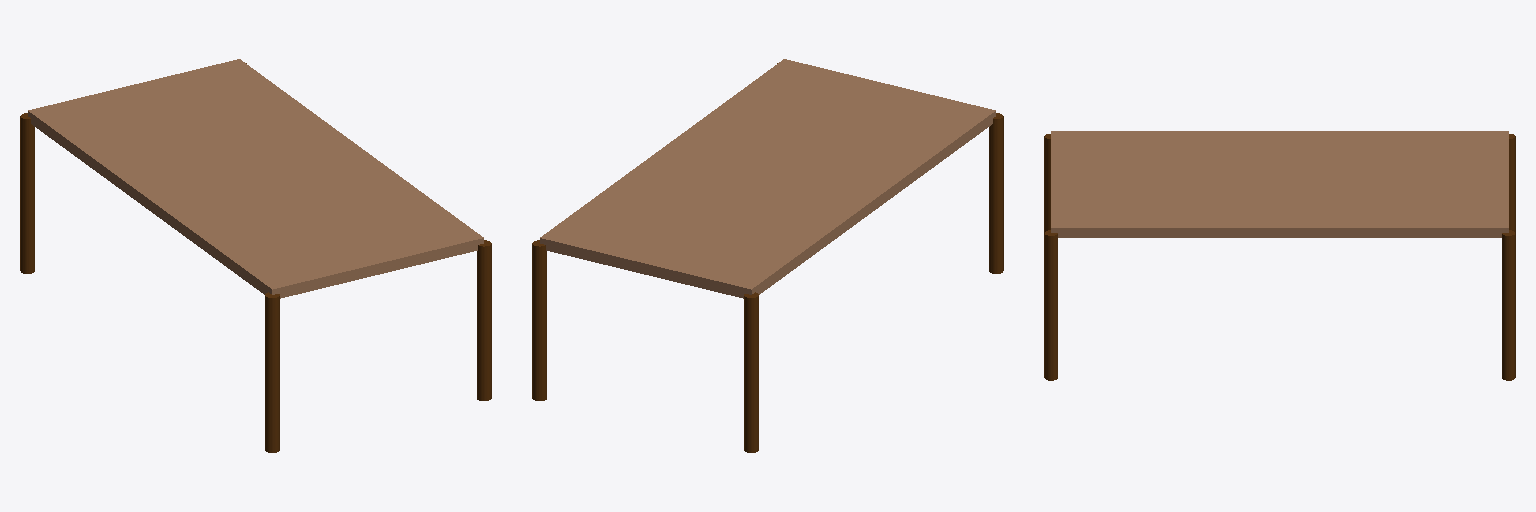
URDF robot description (simple_desk):
<?xml version="1.0" ?>
<robot name="simple_desk">

  <!-- Base table top -->
  <link name="table_top">
    <visual>
      <geometry>
        <box size="1.0 2.0 0.05"/> <!-- width, depth, height -->
      </geometry>
      <material name="brown">
        <color rgba="0.65 0.50 0.39 1"/>
      </material>
    </visual>
    <collision>
      <geometry>
        <box size="1.0 2 0.05"/>
      </geometry>
    </collision>
    <inertial>
      <mass value="5"/>
      <inertia ixx="0.12" ixy="0" ixz="0" iyy="0.12" iyz="0" izz="0.12"/>
      <origin xyz="0 0 0" rpy="0 0 0"/>
    </inertial>
  </link>

  <!-- Four legs -->
  <!-- Leg 1 -->
  <link name="leg_1">
    <visual>
      <geometry>
        <cylinder length="0.699" radius="0.03"/>
      </geometry>
      <material name="dark_brown">
        <color rgba="0.4 0.25 0.1 1"/>
      </material>
    </visual>
    <collision>
      <geometry>
        <cylinder length="0.699" radius="0.03"/>
      </geometry>
    </collision>
    <inertial>
      <mass value="1.2"/>
      <inertia ixx="0.013" ixy="0" ixz="0" iyy="0.013" iyz="0" izz="0.013"/>
      <origin xyz="0 0 0" rpy="0 0 0"/>
    </inertial>
  </link>

  <!-- Leg 1 joint -->
  <joint name="leg_1_joint" type="fixed">
    <parent link="table_top"/>
    <child link="leg_1"/>
    <origin xyz="0.5 1.0 -0.3495" rpy="0 0 0"/>
  </joint>

  <!-- Leg 2 -->
  <link name="leg_2">
    <visual>
      <geometry>
        <cylinder length="0.699" radius="0.03"/>
      </geometry>
      <material name="dark_brown"/>
    </visual>
    <collision>
      <geometry>
        <cylinder length="0.699" radius="0.03"/>
      </geometry>
    </collision>
    <inertial>
      <mass value="1.2"/>
      <inertia ixx="0.013" ixy="0" ixz="0" iyy="0.013" iyz="0" izz="0.013"/>
      <origin xyz="0 0 0" rpy="0 0 0"/>
    </inertial>
  </link>

  <joint name="leg_2_joint" type="fixed">
    <parent link="table_top"/>
    <child link="leg_2"/>
    <origin xyz="0.5 -1.0 -0.3495" rpy="0 0 0"/>
  </joint>

  <!-- Leg 3 -->
  <link name="leg_3">
    <visual>
      <geometry>
        <cylinder length="0.699" radius="0.03"/>
      </geometry>
      <material name="dark_brown"/>
    </visual>
    <collision>
      <geometry>
        <cylinder length="0.699" radius="0.03"/>
      </geometry>
    </collision>
    <inertial>
      <mass value="1.2"/>
      <inertia ixx="0.013" ixy="0" ixz="0" iyy="0.013" iyz="0" izz="0.013"/>
      <origin xyz="0 0 0" rpy="0 0 0"/>
    </inertial>
  </link>

  <joint name="leg_3_joint" type="fixed">
    <parent link="table_top"/>
    <child link="leg_3"/>
    <origin xyz="-0.5 1.0 -0.3495" rpy="0 0 0"/>
  </joint>

  <!-- Leg 4 -->
  <link name="leg_4">
    <visual>
      <geometry>
        <cylinder length="0.699" radius="0.03"/>
      </geometry>
      <material name="dark_brown"/>
    </visual>
    <collision>
      <geometry>
        <cylinder length="0.699" radius="0.03"/>
      </geometry>
    </collision>
    <inertial>
      <mass value="1.2"/>
      <inertia ixx="0.013" ixy="0" ixz="0" iyy="0.013" iyz="0" izz="0.013"/>
      <origin xyz="0 0 0" rpy="0 0 0"/>
    </inertial>
  </link>

  <joint name="leg_4_joint" type="fixed">
    <parent link="table_top"/>
    <child link="leg_4"/>
    <origin xyz="-0.5 -1.0 -0.3495" rpy="0 0 0"/>
  </joint>

</robot>

--- Facts derived from the render (not from the file) ---
Views: 3 orthographic renders of the robot side by side, from view 1: azimuth 30°, elevation 25°; view 2: azimuth 150°, elevation 25°; view 3: azimuth 270°, elevation 25°.
Robot: simple_desk — 5 links, 4 joints (4 fixed); root link table_top; default pose: every joint at zero.
Links seen in each view (by area): view 1: table_top, leg_4, leg_2, leg_3; view 2: table_top, leg_3, leg_1, leg_4; view 3: table_top, leg_1, leg_2, leg_3, leg_4.
Link boxes in pixels (x1=…): table_top: x1=28, y1=59, x2=483, y2=298; leg_4: x1=265, y1=292, x2=279, y2=452; leg_2: x1=477, y1=240, x2=491, y2=400; leg_3: x1=20, y1=113, x2=34, y2=273; table_top: x1=540, y1=59, x2=995, y2=298; leg_3: x1=744, y1=292, x2=758, y2=452; leg_1: x1=532, y1=240, x2=546, y2=400; leg_4: x1=989, y1=113, x2=1003, y2=273; table_top: x1=1051, y1=131, x2=1508, y2=237; leg_1: x1=1502, y1=230, x2=1515, y2=380; leg_2: x1=1044, y1=230, x2=1057, y2=380; leg_3: x1=1509, y1=134, x2=1515, y2=232; leg_4: x1=1044, y1=134, x2=1050, y2=232.
Bounding box of the posed robot: 1.06 × 2.06 × 0.724 m (x, y, z).
Geometry: primitives only (box / cylinder / sphere), no mesh files.
